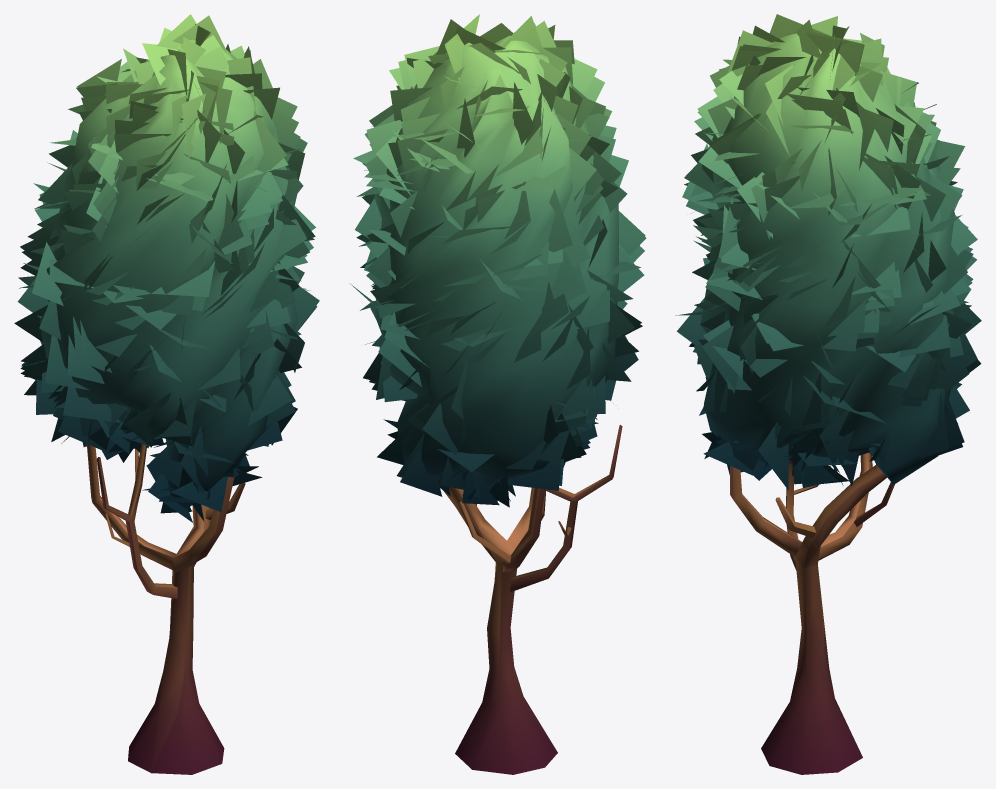
The model's file is Forest_Tree_8D.fbx.
The picture shows the model from 3 angles, left to right: view 1: azimuth 30°, elevation 25°; view 2: azimuth 150°, elevation 25°; view 3: azimuth 270°, elevation 25°; orthographic projection. The views are drawn at different scales.
Parts seen in each view (by area): view 1: Forest_Tree_8D; view 2: Forest_Tree_8D; view 3: Forest_Tree_8D.
Part boxes in pixels (x1,y1,x2,y2): Forest_Tree_8D: (14,14,319,774); Forest_Tree_8D: (349,14,646,774); Forest_Tree_8D: (675,14,981,774).
Size of the model in its own units: 371 by 960 by 360.
